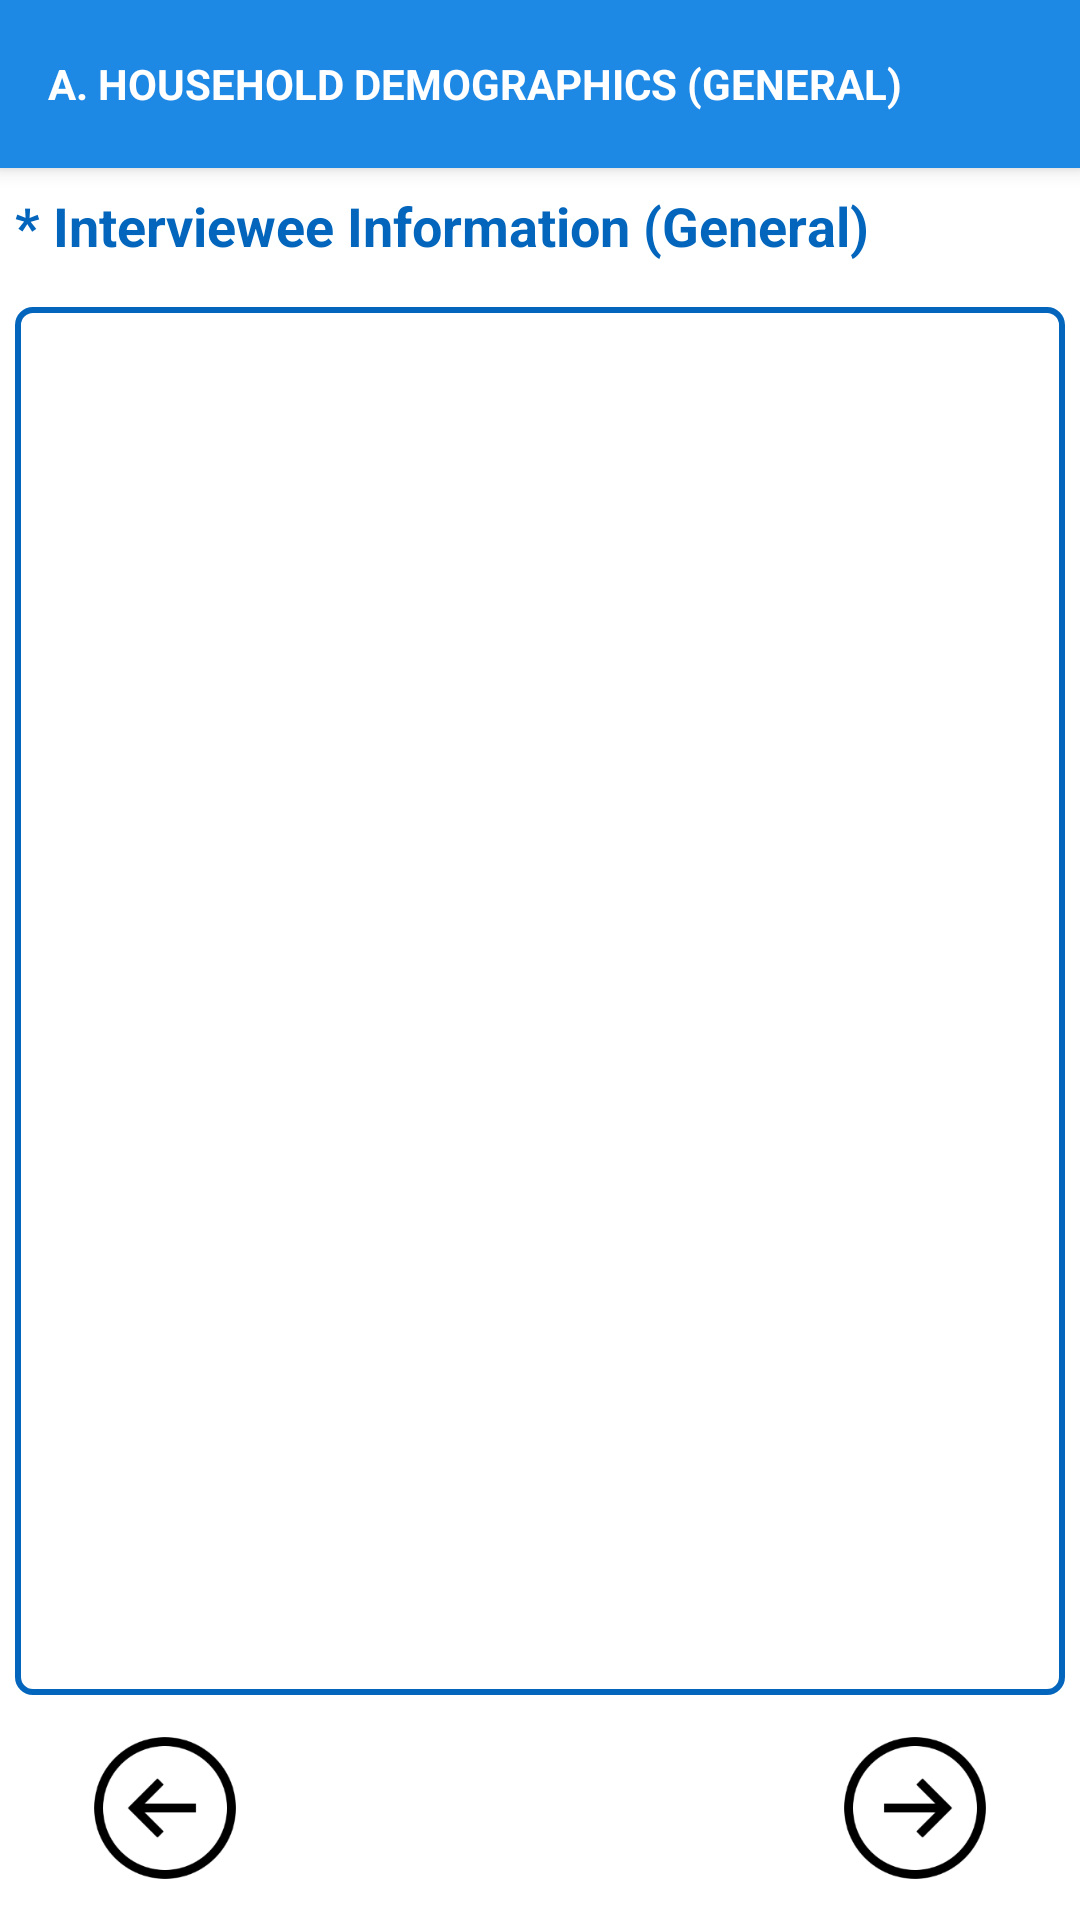

Icon bounding boxes for this 1080 x 1920 phone screenshot, format (left=x1, top=y1, right=x2, bottom=y2):
arrow back: (left=94, top=1737, right=236, bottom=1879)
arrow next: (left=844, top=1737, right=986, bottom=1879)
